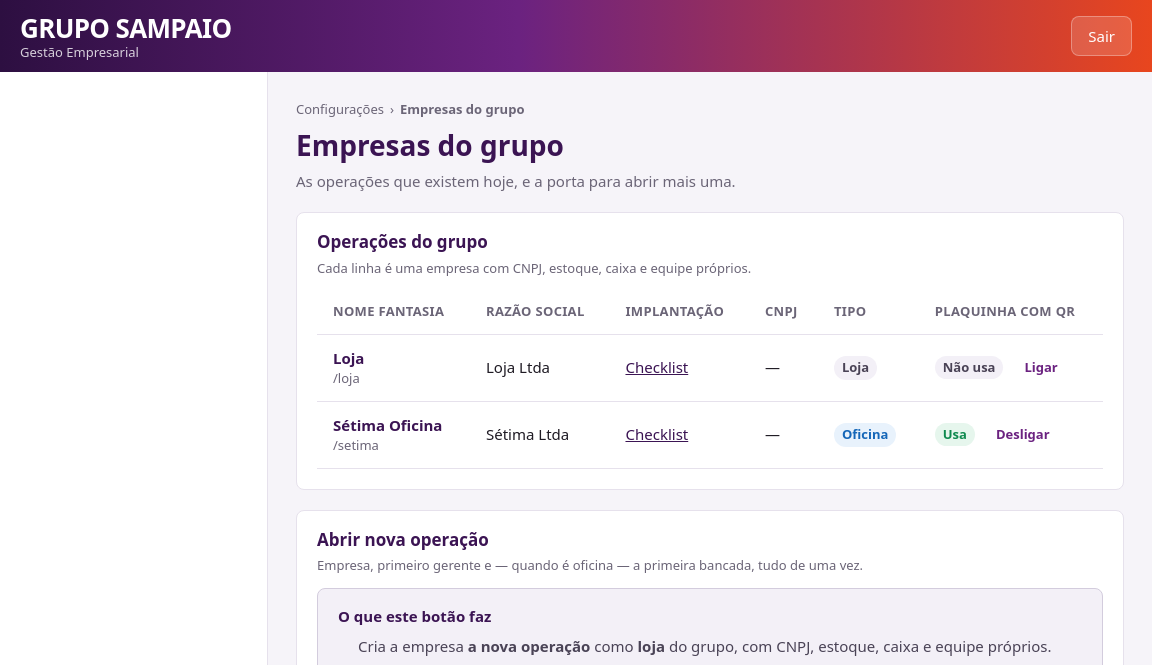
Test: GAP-PRD-185 — a plaquinha da operação pela tela de Empresas › desligar com adesivo no pool mostra a recusa do servidor
Click the button with aria-label "Desligar plaquinha de Sétima Oficina": (1023, 435) [983,418,1063,451]
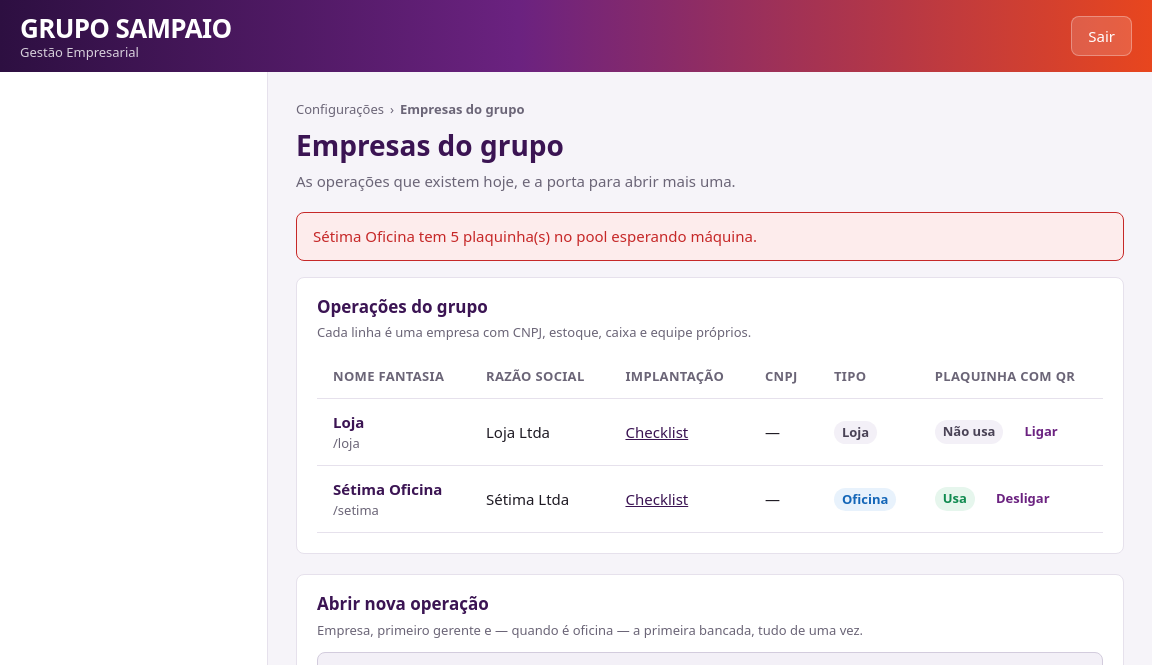
Expected: the message shows "5 plaquinha(s) no pool", [313,226,757,246]
